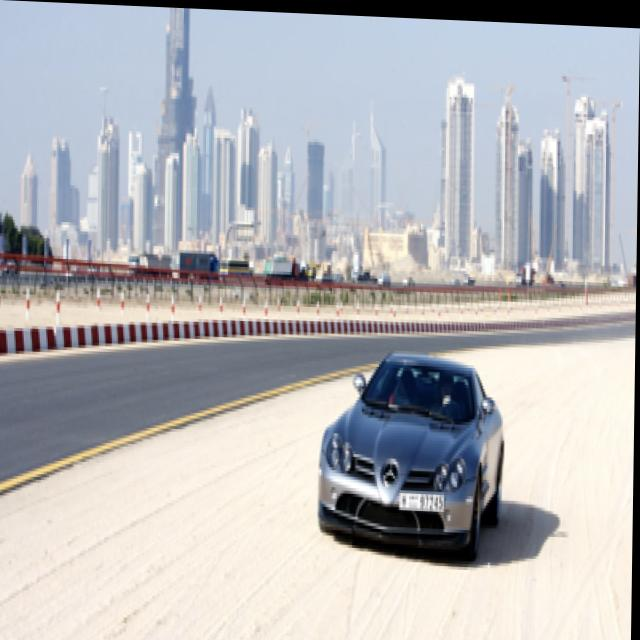licence: (397, 475, 447, 516)
